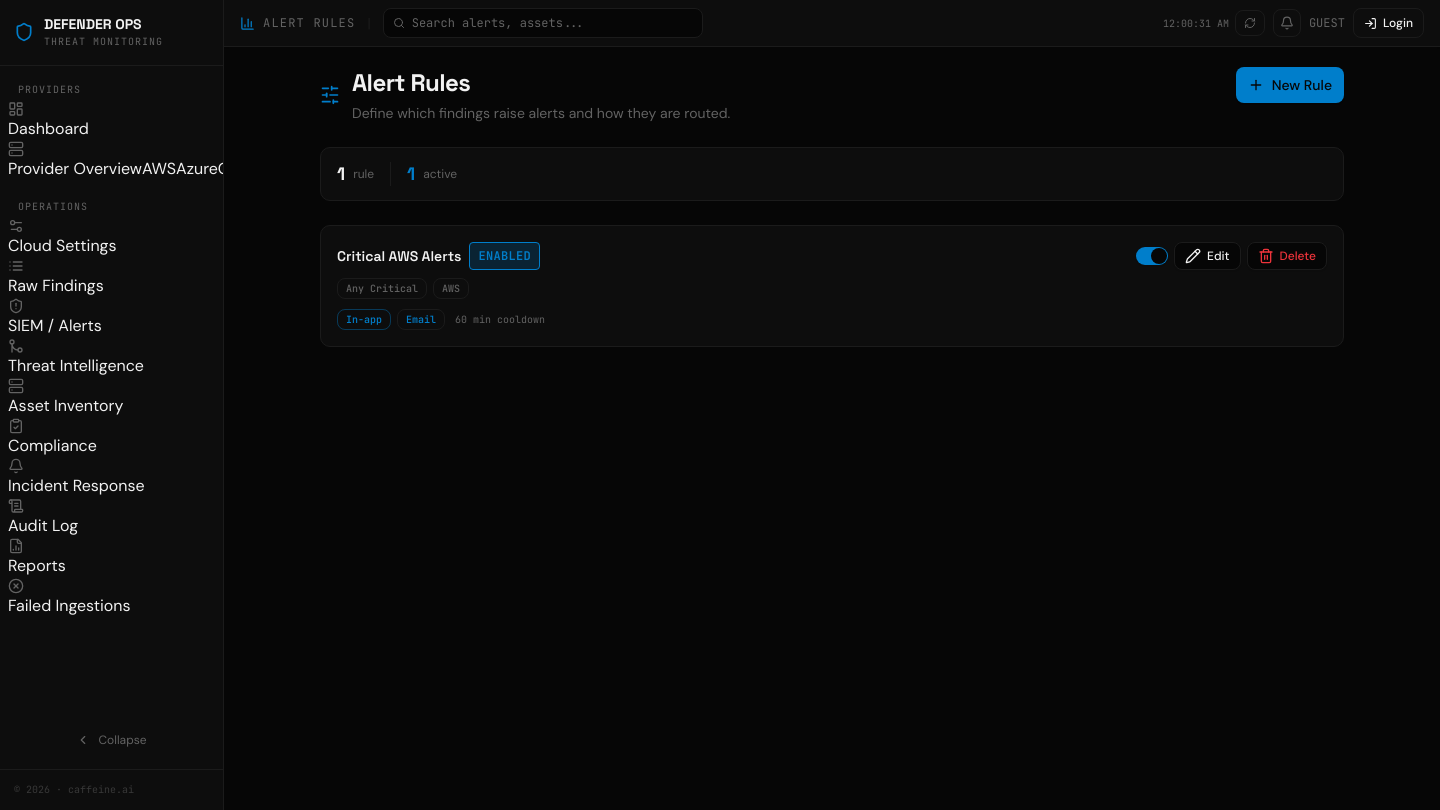
AlertRulesPage deduplication and escalation (cover) › defaults a new rule's cooldown to 60 minutes
Click the button with test id "alert_rules.create_button" at (1290, 85), box [1236,67,1344,103]
(page scrolled)
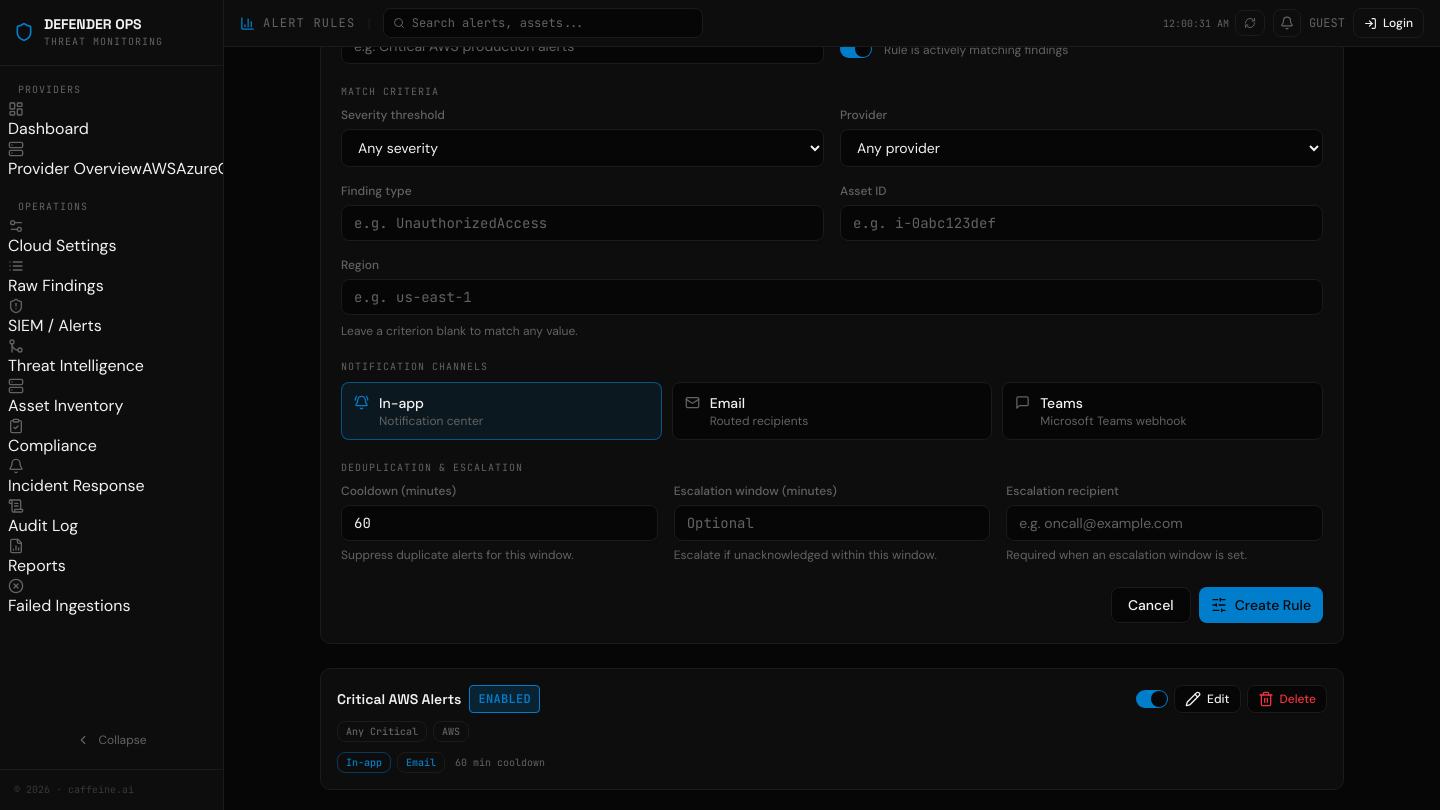
Expected: the number field with test id "alert_rules.cooldown_input" holds "60", [341,505,658,541]
